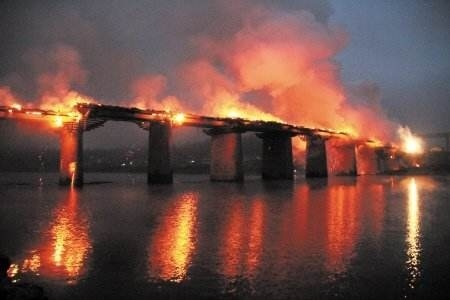fire: (3, 88, 98, 127), (156, 192, 196, 280)
